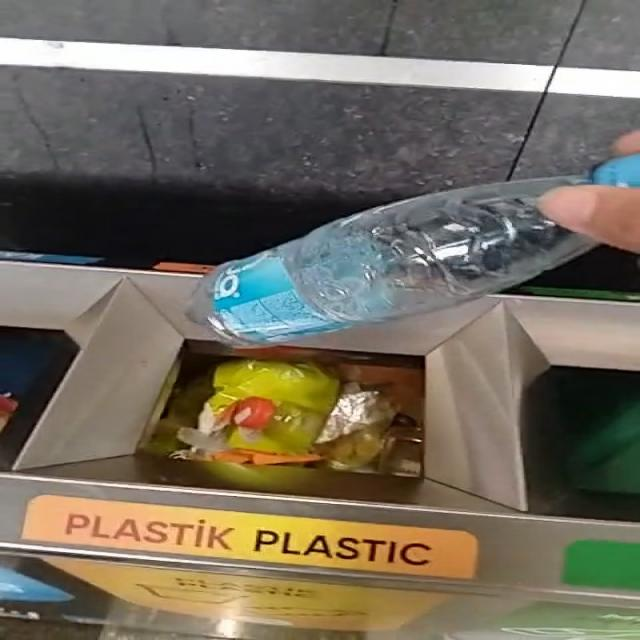plastic: (193, 176, 596, 344), (575, 132, 640, 249)
